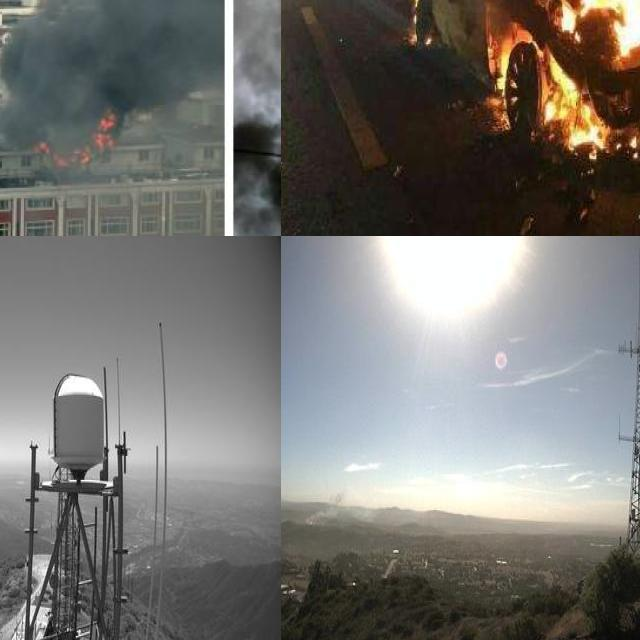fire: (465, 0, 640, 168), (31, 106, 117, 170)
smoke: (0, 0, 221, 138), (294, 482, 380, 527)
